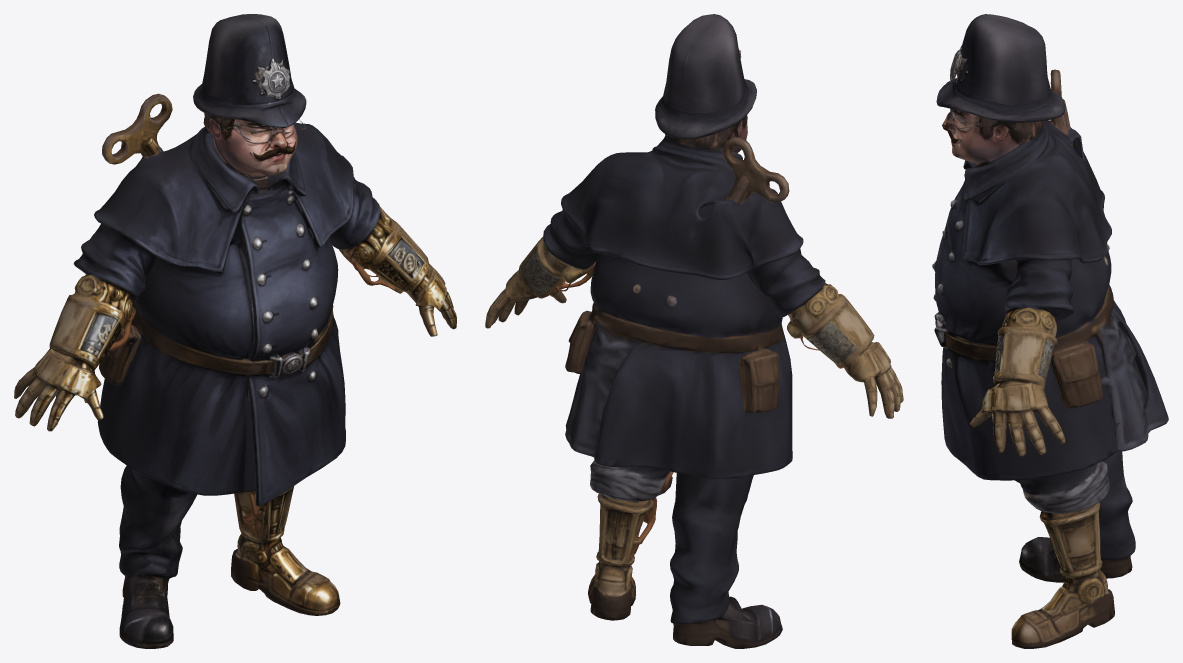
The model's file is constable-winch_body.glb.
The picture shows the model from 3 angles, left to right: view 1: azimuth 30°, elevation 25°; view 2: azimuth 150°, elevation 25°; view 3: azimuth 270°, elevation 25°; orthographic projection. The views are drawn at different scales.
Visible parts, largest first — view 1: constable-winch; view 2: constable-winch; view 3: constable-winch.
Part boxes in pixels (left/top/right/bottom): constable-winch: left=14, top=14, right=456, bottom=648; constable-winch: left=485, top=14, right=903, bottom=648; constable-winch: left=932, top=14, right=1168, bottom=648.
Size of the model in its own units: 1.3 by 1.8 by 0.6558.
Materials: 2 (2 with a texture image).
